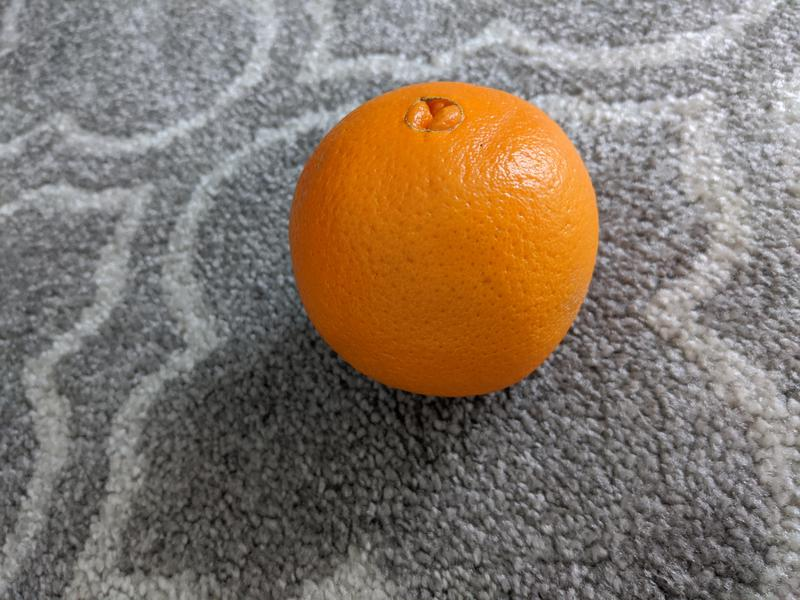orange: (288, 81, 601, 399)
